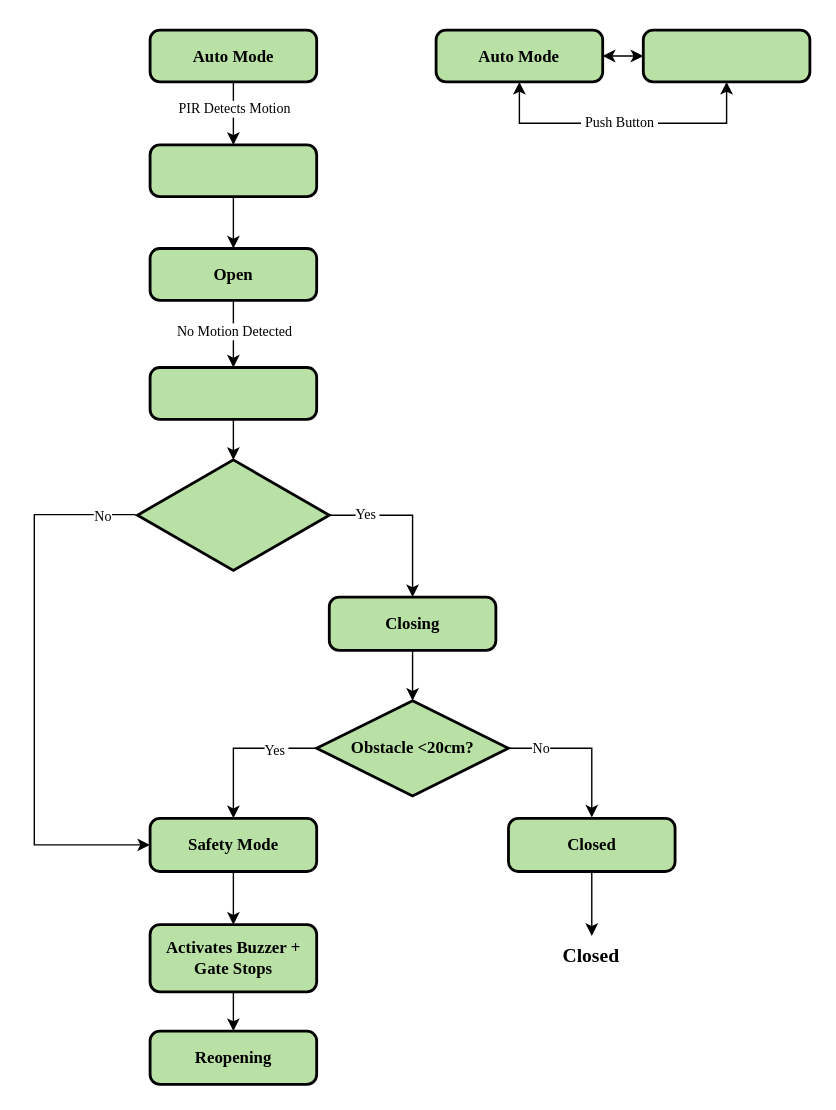
Some shapes in this 836 by 1110 pixel diagram are drawn without their labels. Here are the shapes that lost their labels. From the top down, the centre of each, then its label:
At [726,55]: "Manual Mode".
At [232,170]: "Opening".
At [232,392]: "5 Second Hold".
At [232,514]: "Path Clear?".
